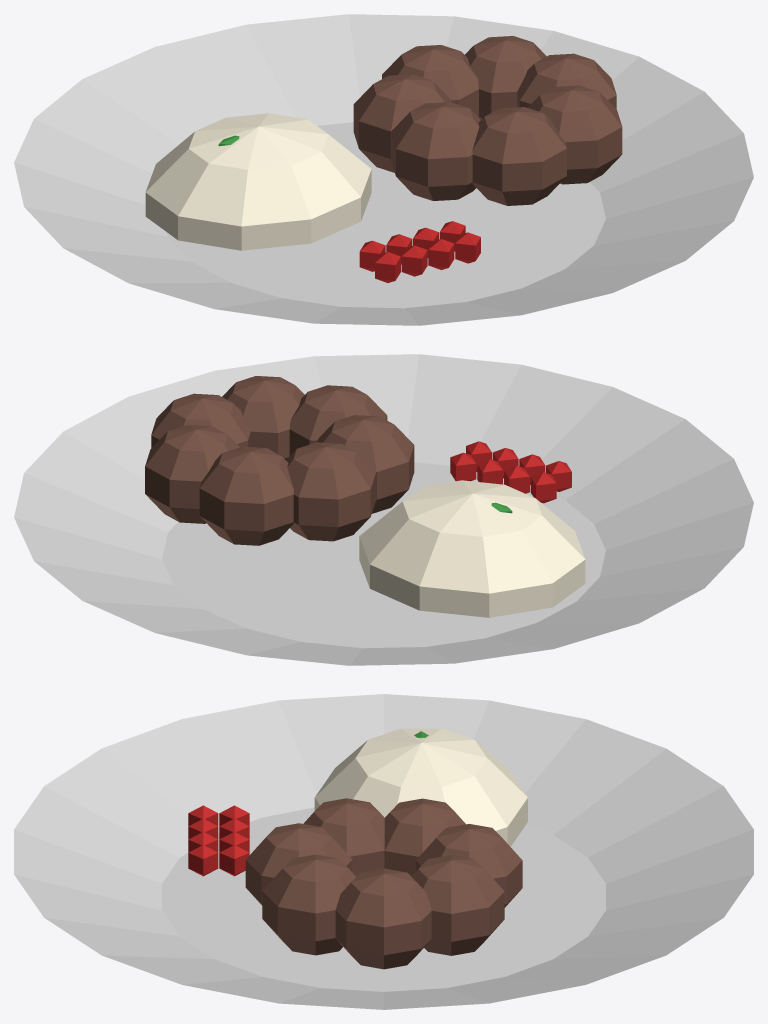
File: kottbullar.glb
The picture shows the model from 3 angles, top to bottom: view 1: azimuth 30°, elevation 25°; view 2: azimuth 150°, elevation 25°; view 3: azimuth 270°, elevation 25°; orthographic projection.
Parts seen in each view (by area): view 1: kottbullar; view 2: kottbullar; view 3: kottbullar.
Part boxes in pixels (left/top/right/bottom): kottbullar: left=14, top=14, right=753, bottom=325; kottbullar: left=14, top=354, right=753, bottom=665; kottbullar: left=14, top=694, right=753, bottom=1009.
Bounding box in the file's own units: 0.6 × 0.1 × 0.5939.
